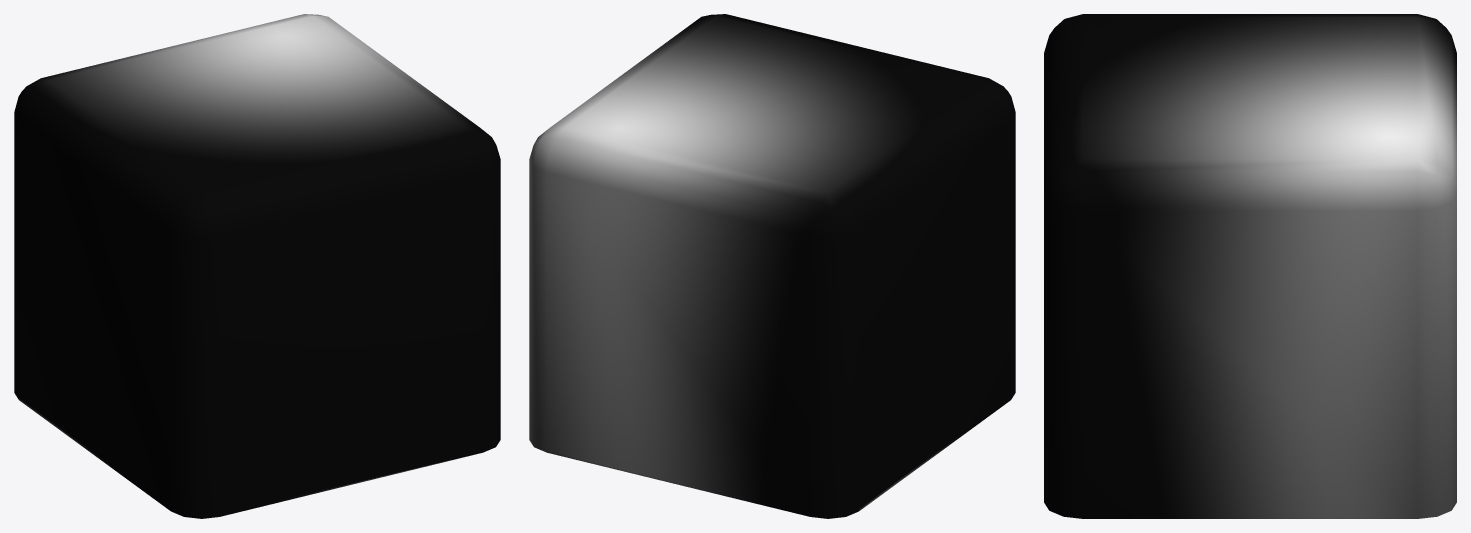
File: FakePaintMesh.fbx
3 renders of one model, left to right at view 1: azimuth 30°, elevation 25°; view 2: azimuth 150°, elevation 25°; view 3: azimuth 270°, elevation 25°, orthographic. The views are drawn at different scales.
Visible parts, largest first — view 1: Grids.002; view 2: Grids.002; view 3: Grids.002.
Boxes of the visible parts, x1=… form: Grids.002: x1=14, y1=14, x2=500, y2=518; Grids.002: x1=529, y1=14, x2=1015, y2=518; Grids.002: x1=1044, y1=14, x2=1456, y2=518.
Size of the model in its own units: 0.9945 by 0.9127 by 0.9945.
